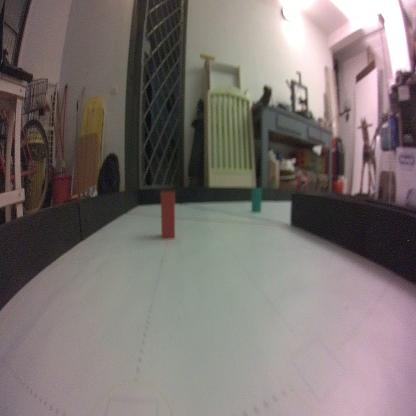green: (250, 187, 260, 211)
red: (160, 188, 178, 242)
